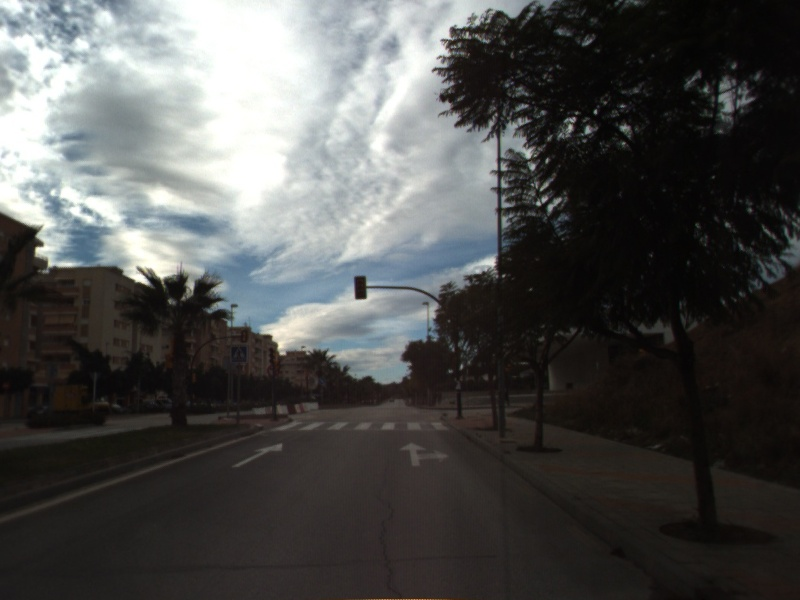STRAIGHT: (230, 441, 284, 469)
STRAIGHT_RIGHT: (397, 440, 451, 468)
